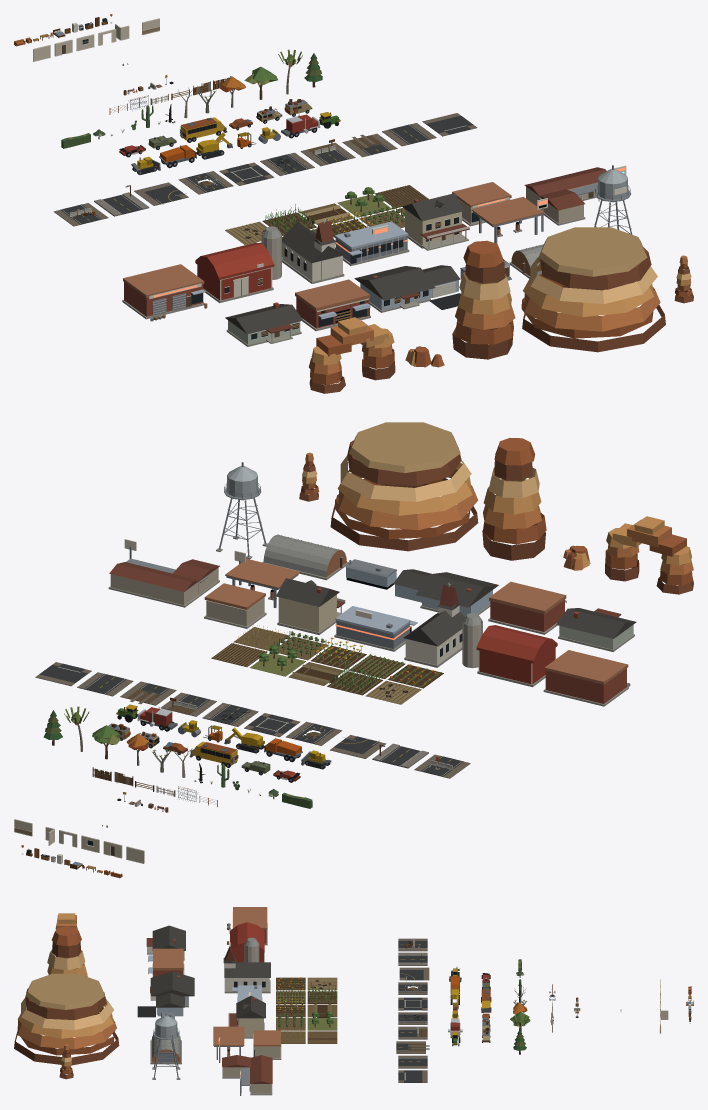
Rendered from props.glb.
The picture shows the model from 3 angles, top to bottom: view 1: azimuth 30°, elevation 25°; view 2: azimuth 150°, elevation 25°; view 3: azimuth 270°, elevation 25°; orthographic projection. The views are drawn at different scales.
Parts seen in each view (by area): view 1: Rock_Mesa, Rock_Butte, Bld_Barn, Rock_Arch, Bld_SuburbHouse, Bld_AutoShop, Bld_GasStation, Bld_Church, Bld_Farmhouse, Bld_Shop, Bld_Motel, Bld_Ranch (+22 smaller); view 2: Rock_Mesa, Rock_Butte, Bld_Barn, Rock_Arch, Bld_Motel, Bld_GasStation, Bld_AutoShop, Bld_Shop, Bld_Church, Bld_SuburbHouse, Bld_Farmhouse, Bld_Ranch (+25 smaller); view 3: Rock_Mesa, Bld_SuburbHouse, Bld_Motel, Bld_GasStation, Rock_Butte, Bld_Church, Bld_Barn, Bld_Farmhouse, Bld_Shop, Bld_WaterTower, Bld_Ranch, Bld_AutoShop (+23 smaller).
Part boxes in pixels (bbox=[...]): Rock_Mesa: bbox=[521, 227, 665, 352]; Rock_Butte: bbox=[452, 240, 515, 359]; Bld_Barn: bbox=[195, 226, 281, 303]; Rock_Arch: bbox=[309, 317, 395, 393]; Bld_SuburbHouse: bbox=[354, 265, 460, 312]; Bld_AutoShop: bbox=[122, 264, 207, 321]; Bld_GasStation: bbox=[452, 182, 547, 243]; Bld_Church: bbox=[282, 218, 344, 283]; Bld_Farmhouse: bbox=[402, 193, 469, 250]; Bld_Shop: bbox=[295, 279, 370, 331]; Bld_Motel: bbox=[524, 165, 626, 225]; Bld_Ranch: bbox=[225, 302, 303, 346]; Rock_Mesa: bbox=[330, 422, 478, 551]; Rock_Butte: bbox=[482, 438, 546, 560]; Bld_Barn: bbox=[462, 613, 557, 687]; Rock_Arch: bbox=[605, 516, 693, 594]; Bld_Motel: bbox=[108, 539, 219, 607]; Bld_GasStation: bbox=[204, 550, 299, 628]; Bld_AutoShop: bbox=[543, 650, 630, 706]; Bld_Shop: bbox=[488, 581, 566, 634]; Bld_Church: bbox=[403, 582, 465, 667]; Bld_SuburbHouse: bbox=[393, 569, 498, 616]; Bld_Farmhouse: bbox=[276, 578, 345, 634]; Bld_Ranch: bbox=[556, 608, 636, 651]; Rock_Mesa: bbox=[14, 973, 119, 1065]; Bld_SuburbHouse: bbox=[137, 971, 194, 1017]; Bld_Motel: bbox=[222, 1055, 272, 1095]; Bld_GasStation: bbox=[213, 1026, 281, 1062]; Rock_Butte: bbox=[47, 926, 87, 976]; Bld_Church: bbox=[223, 944, 270, 993]; Bld_Barn: bbox=[230, 922, 264, 962]; Bld_Farmhouse: bbox=[228, 995, 265, 1038]; Bld_Shop: bbox=[148, 948, 184, 976]; Bld_WaterTower: bbox=[152, 1013, 180, 1079]; Bld_Ranch: bbox=[146, 925, 185, 960]; Bld_AutoShop: bbox=[227, 907, 267, 945].
Bounding box in the file's own units: 111 × 22.49 × 184.
